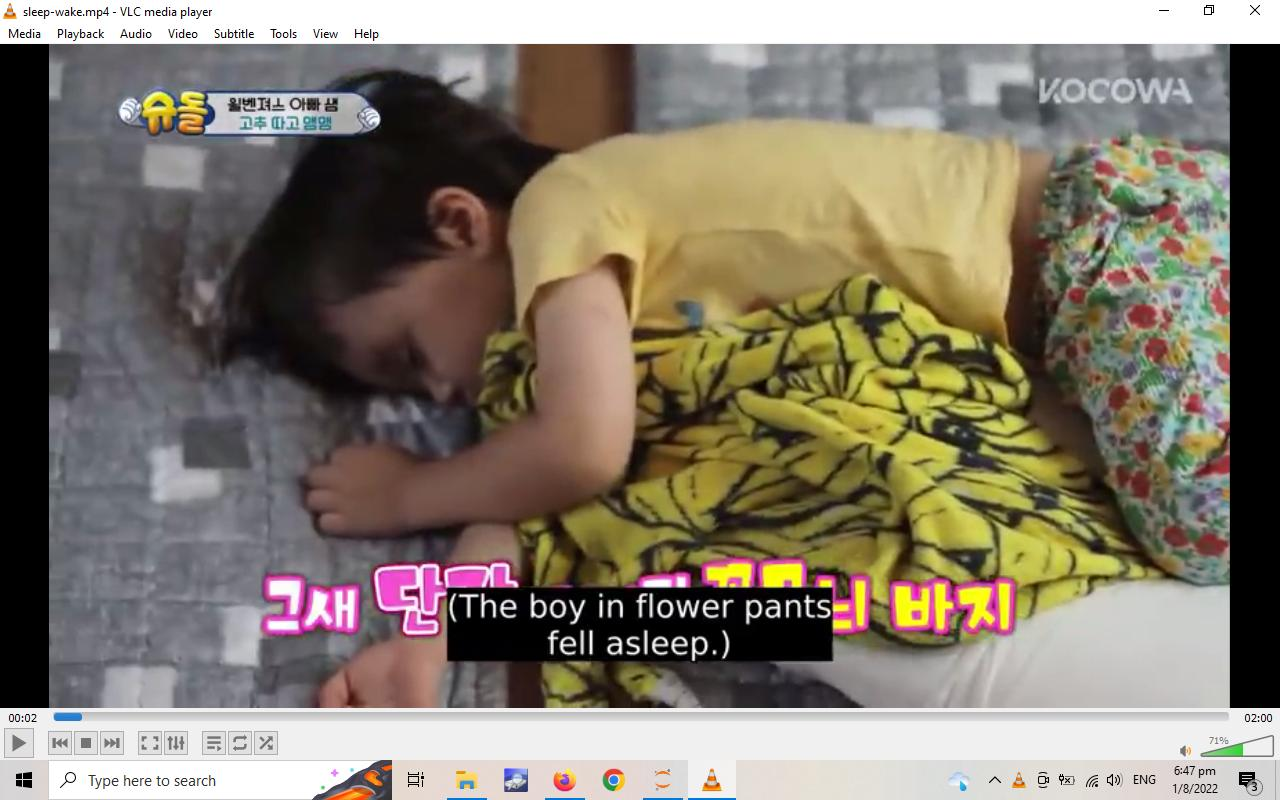sleep: (211, 50, 1231, 584), (380, 304, 482, 410)
